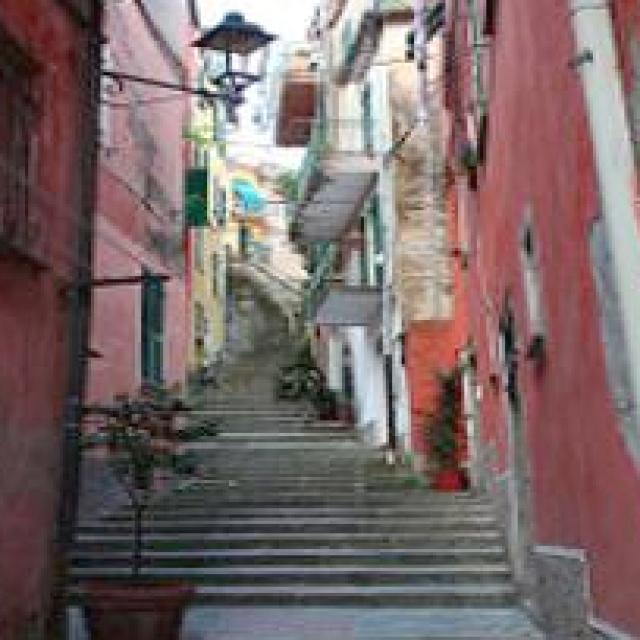upstair: (101, 405, 534, 640)
